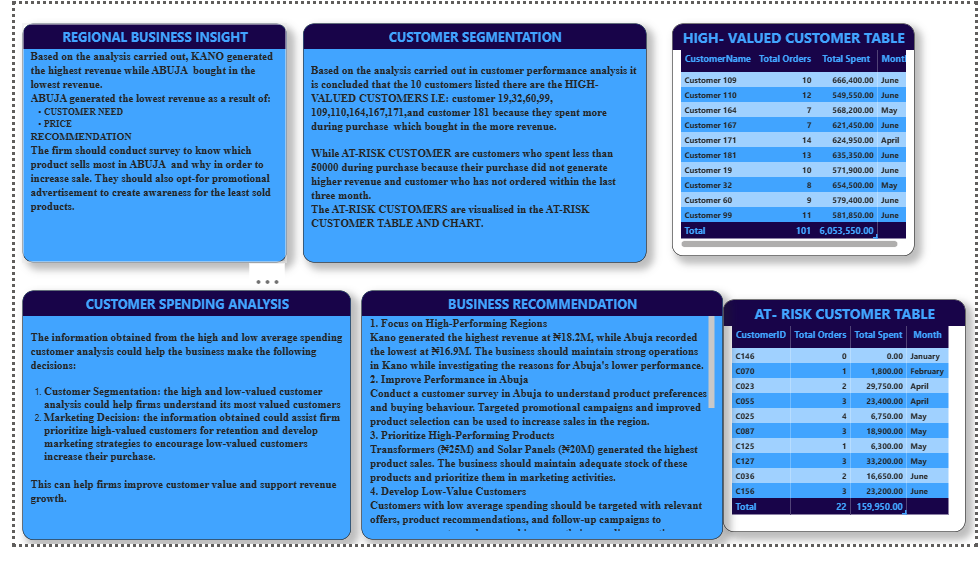

This screenshot's page, from the dashboard's own definition file:
{"tool":"powerbi","page":{"name":"Page 2","canvas":[1280,720],"ordinal":1},"visuals":[{"type":"textbox","title":"REGIONAL BUSINESS INSIGHT","box":[10,25.9,352.5,318.7],"z":0},{"type":"textbox","title":"CUSTOMER SEGMENTATION","box":[384.4,25.9,458.1,318.7],"z":1000},{"type":"tableEx","title":"AT- RISK CUSTOMER TABLE","fields":{"Values":["Customers.CustomerID","Sum(Customers.TotalOrders)","select","Sum(Customers.TotalSpent)","Customers.LastPurchaseDate.Variation.Date Hierarchy.Month"]},"box":[944.9,393.1,323.2,309.9],"z":2000},{"type":"textbox","title":"CUSTOMER SPENDING ANALYSIS","box":[10,382.4,438.2,332.6],"z":3000},{"type":"textbox","title":"BUSINESS RECOMMENDATION","box":[462,382,482,332],"z":4000},{"type":"tableEx","title":"HIGH- VALUED CUSTOMER TABLE","fields":{"Values":["Customers.CustomerName","Sum(Customers.TotalOrders)","select","Sum(Customers.TotalSpent)","Customers.LastPurchaseDate.Variation.Date Hierarchy.Month"]},"box":[876.9,26.5,323.2,309.9],"z":6000}]}

Visuals, with their boxes in screenshot pixels (x1, y1, x2, y2), scaled from the page's 1280x720 canvas onto the 978x565 screenshot:
"REGIONAL BUSINESS INSIGHT" textbox: {"left": 8, "top": 20, "right": 277, "bottom": 270}
"CUSTOMER SEGMENTATION" textbox: {"left": 294, "top": 20, "right": 644, "bottom": 270}
"AT- RISK CUSTOMER TABLE" tableEx: {"left": 722, "top": 308, "right": 969, "bottom": 552}
"CUSTOMER SPENDING ANALYSIS" textbox: {"left": 8, "top": 300, "right": 342, "bottom": 561}
"BUSINESS RECOMMENDATION" textbox: {"left": 353, "top": 300, "right": 721, "bottom": 560}
"HIGH- VALUED CUSTOMER TABLE" tableEx: {"left": 670, "top": 21, "right": 917, "bottom": 264}
